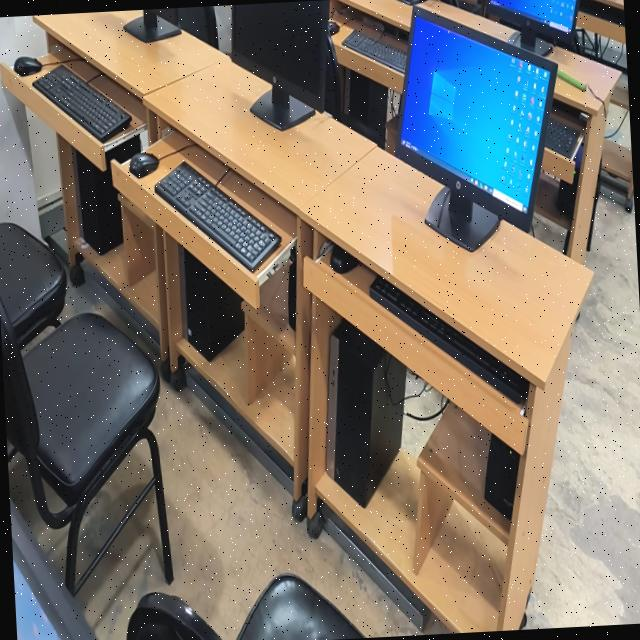Chair: (0, 298, 172, 593), (234, 572, 367, 640), (0, 222, 66, 348), (126, 591, 223, 640)
Cpu: (326, 320, 405, 505), (72, 134, 140, 254), (178, 246, 244, 360), (347, 70, 387, 145)
Keyboard: (369, 275, 527, 405), (154, 162, 280, 270), (33, 65, 130, 142), (341, 30, 405, 72), (545, 113, 578, 157)
Monitor: (395, 6, 557, 250), (230, 0, 328, 129), (482, 0, 578, 54), (123, 7, 180, 41)
Mouse: (329, 243, 359, 272), (128, 150, 158, 177), (13, 56, 41, 75)
